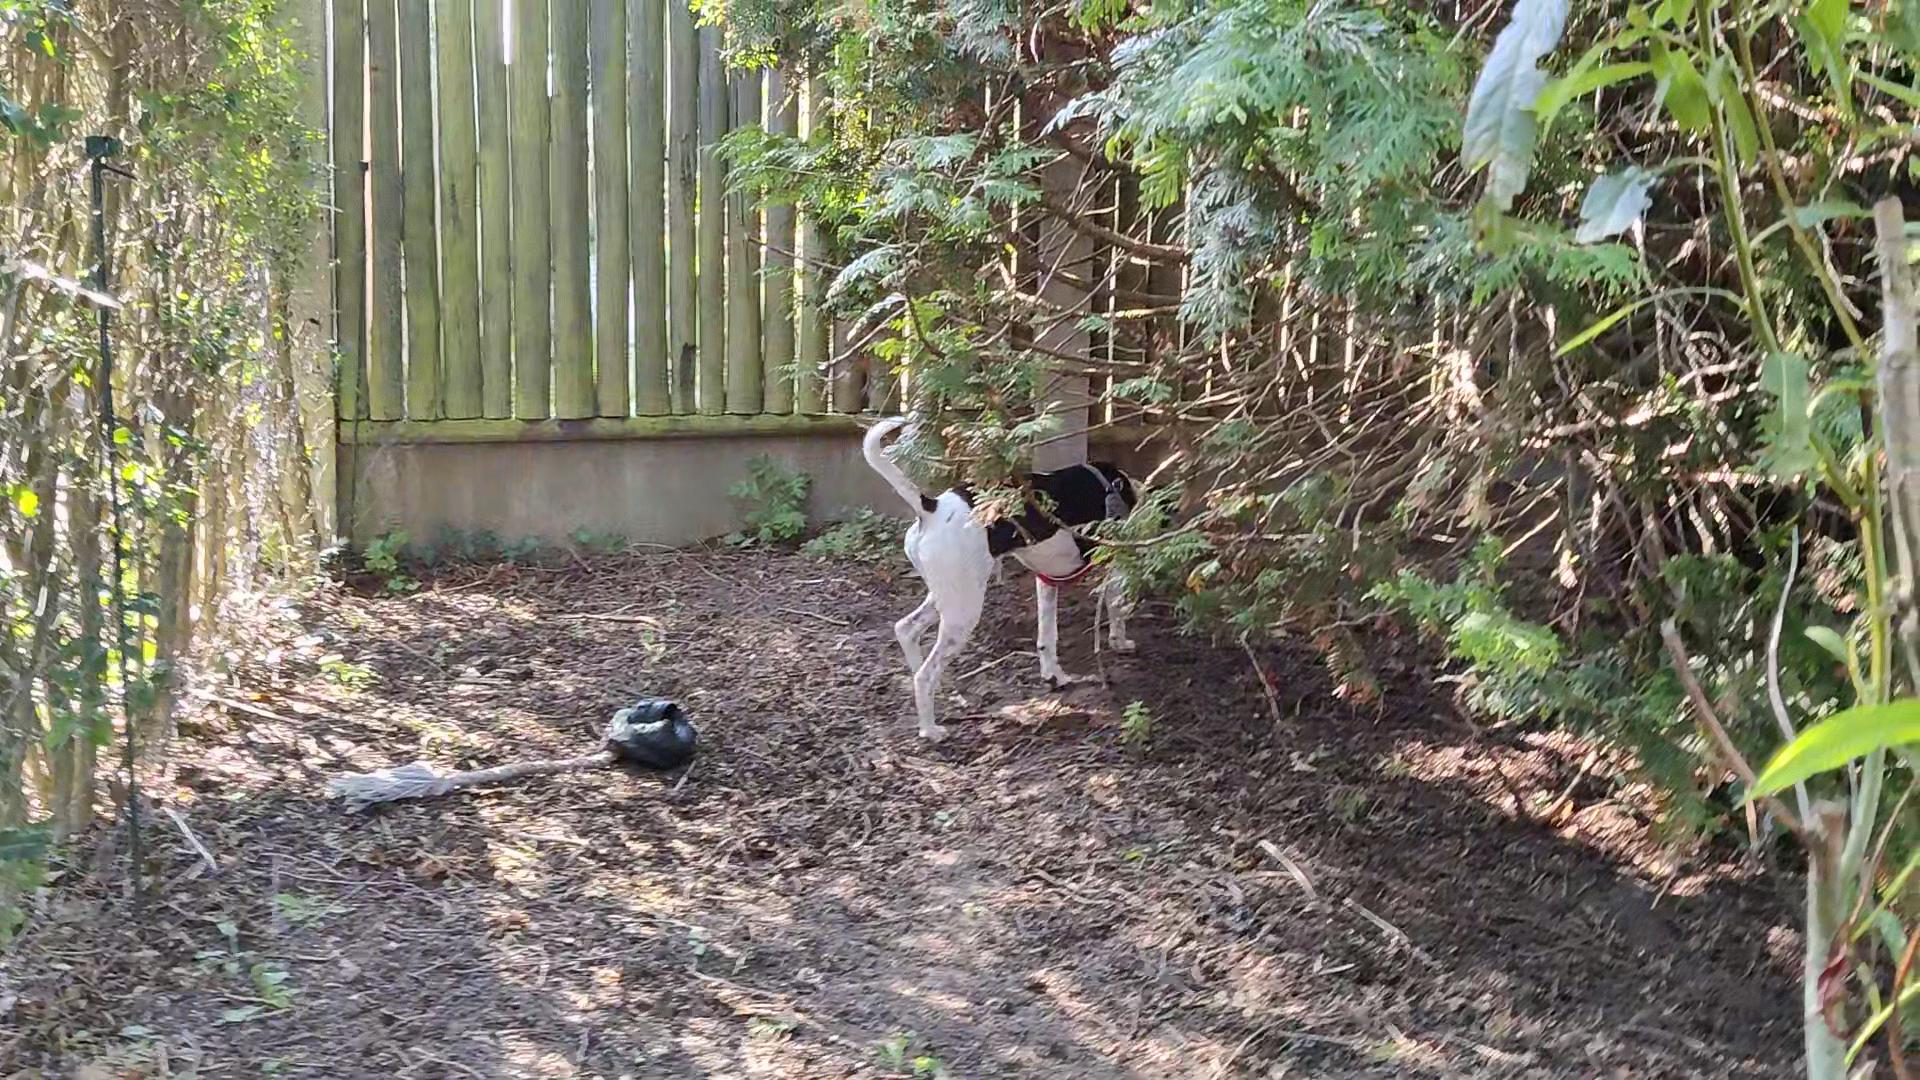Dog: (851, 404, 1189, 750)
